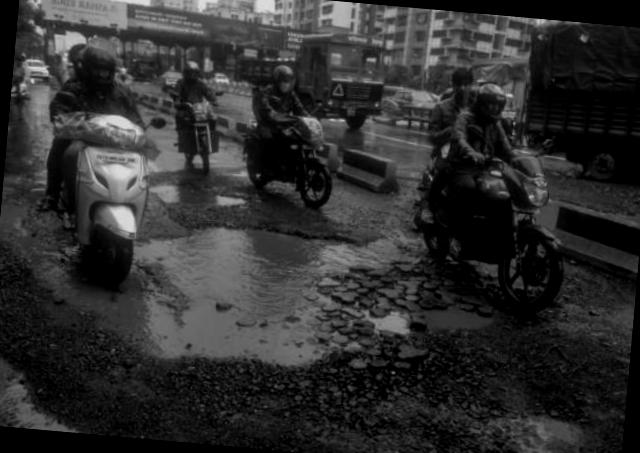Pothole: (0, 166, 537, 396), (0, 328, 111, 434), (444, 415, 623, 453), (143, 171, 264, 216), (124, 164, 188, 216)
